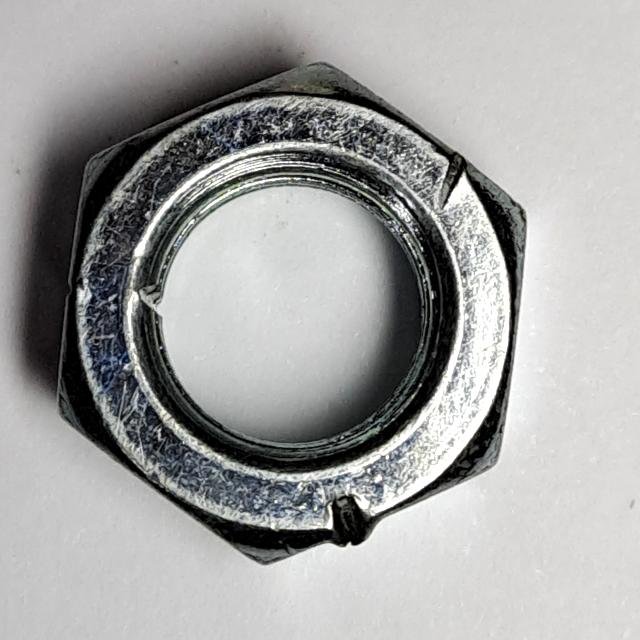Scratches: (49, 45, 535, 586)
